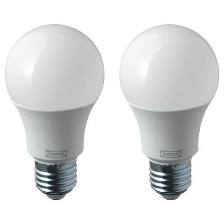light_bulb: (0, 19, 108, 202), (117, 20, 220, 201)
